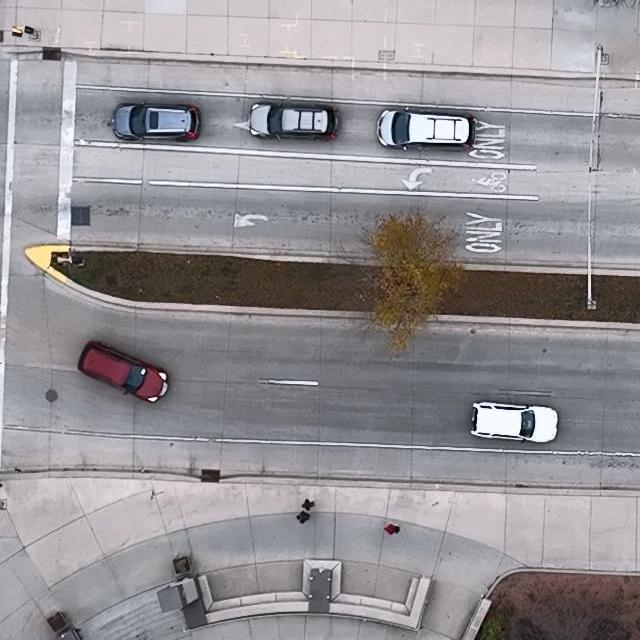car: (77, 341, 169, 403), (376, 105, 476, 151), (469, 400, 559, 444), (110, 101, 201, 142), (251, 100, 341, 141)
